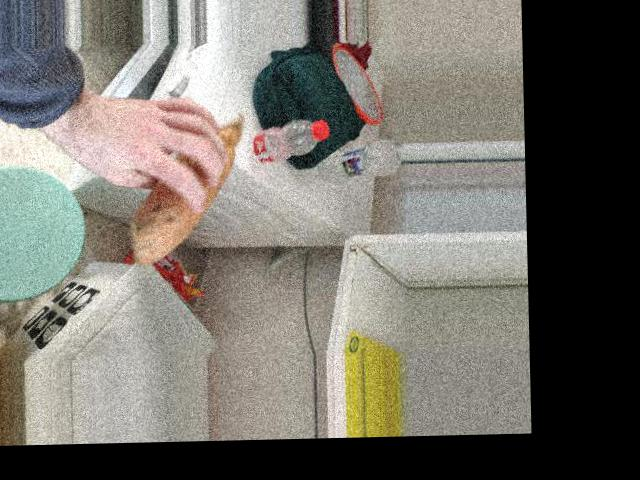sweet_potato: (133, 103, 242, 254)
